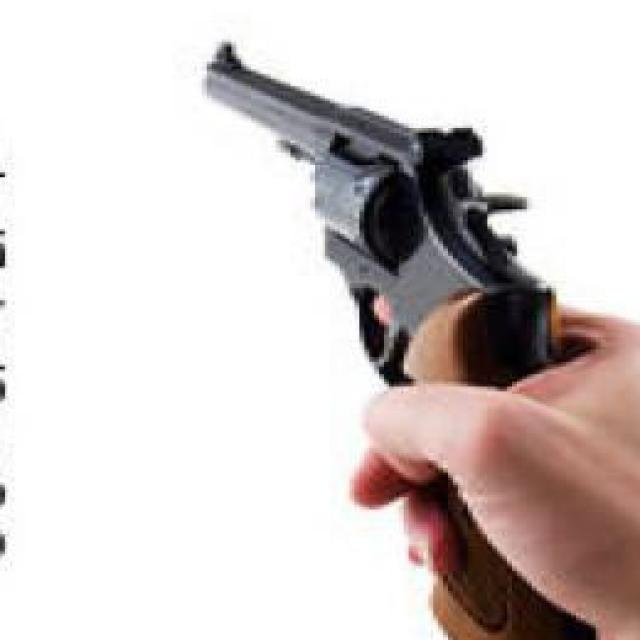pistol: (202, 34, 635, 640)
